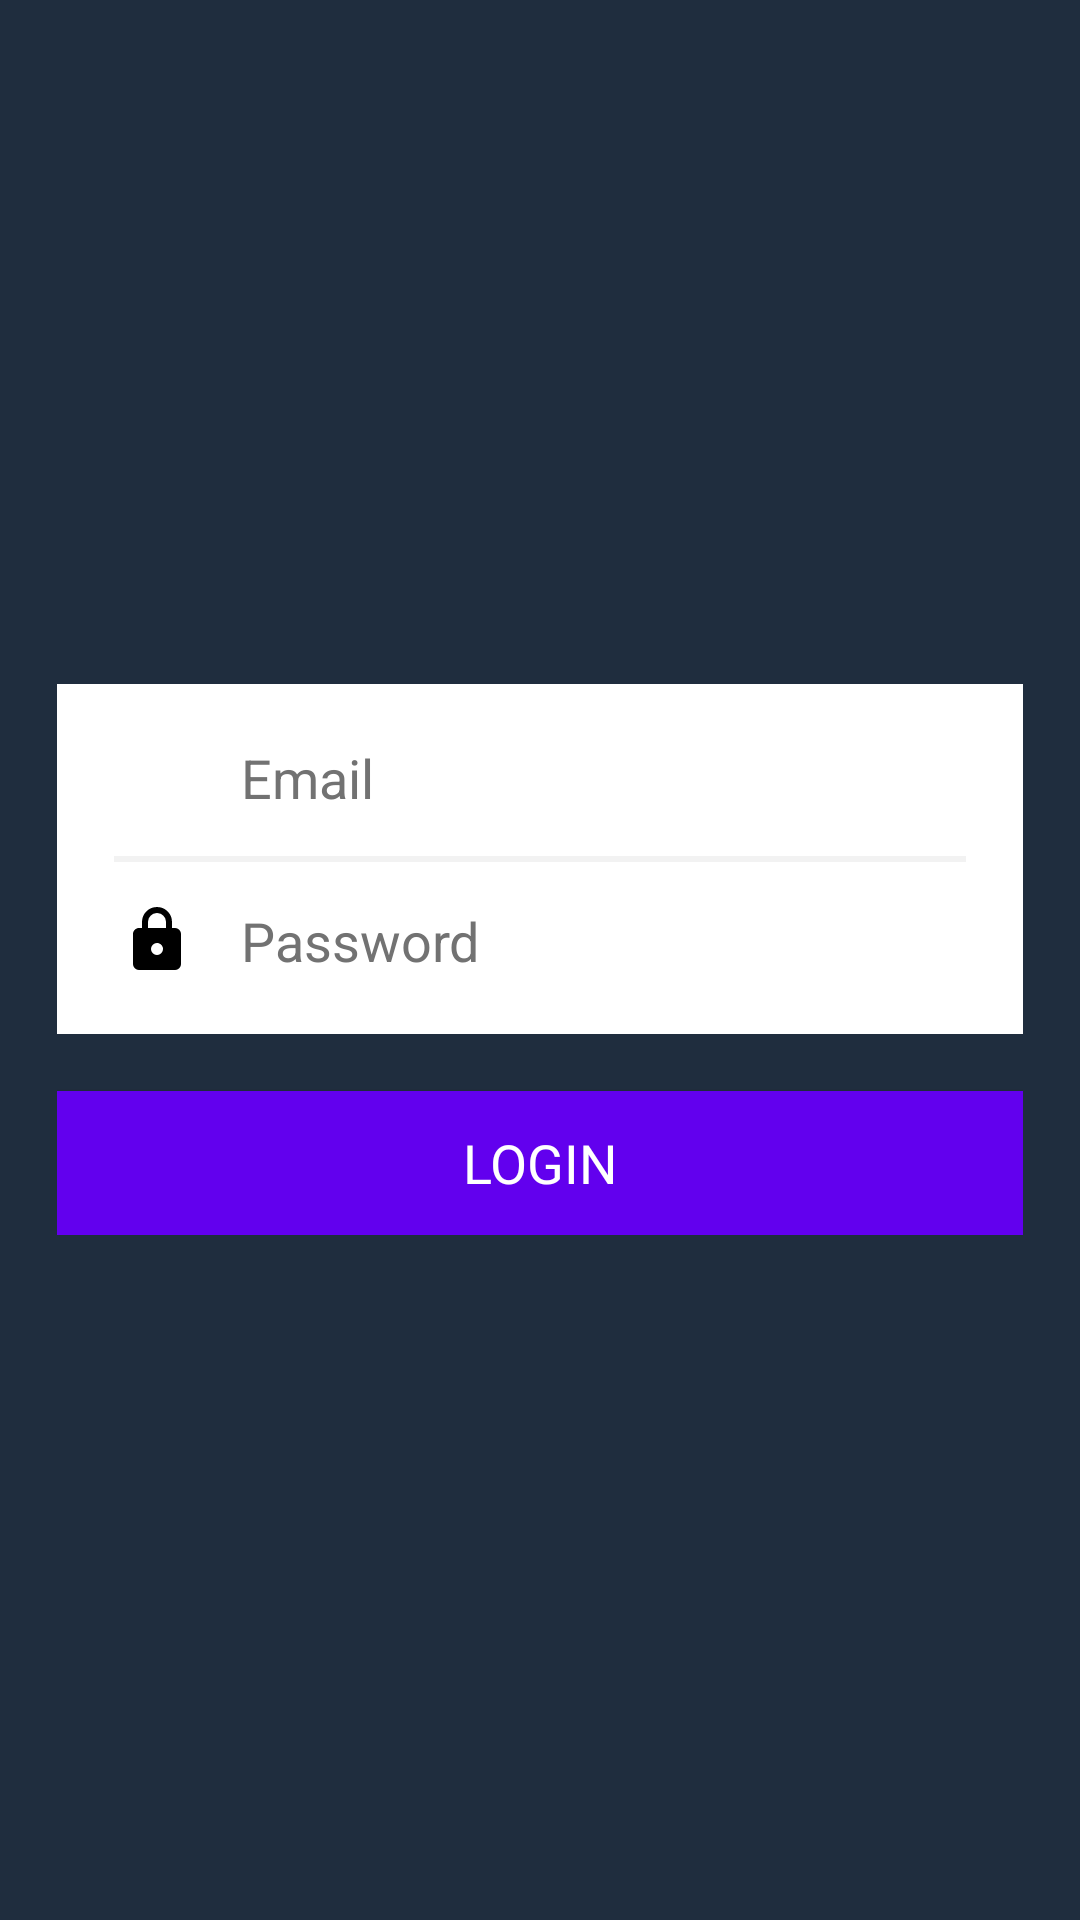

Icons on this 1080x1920 Android screen, each with its box as (x1, y1, x2, y2):
auth edt pass: (133, 907, 181, 970)
